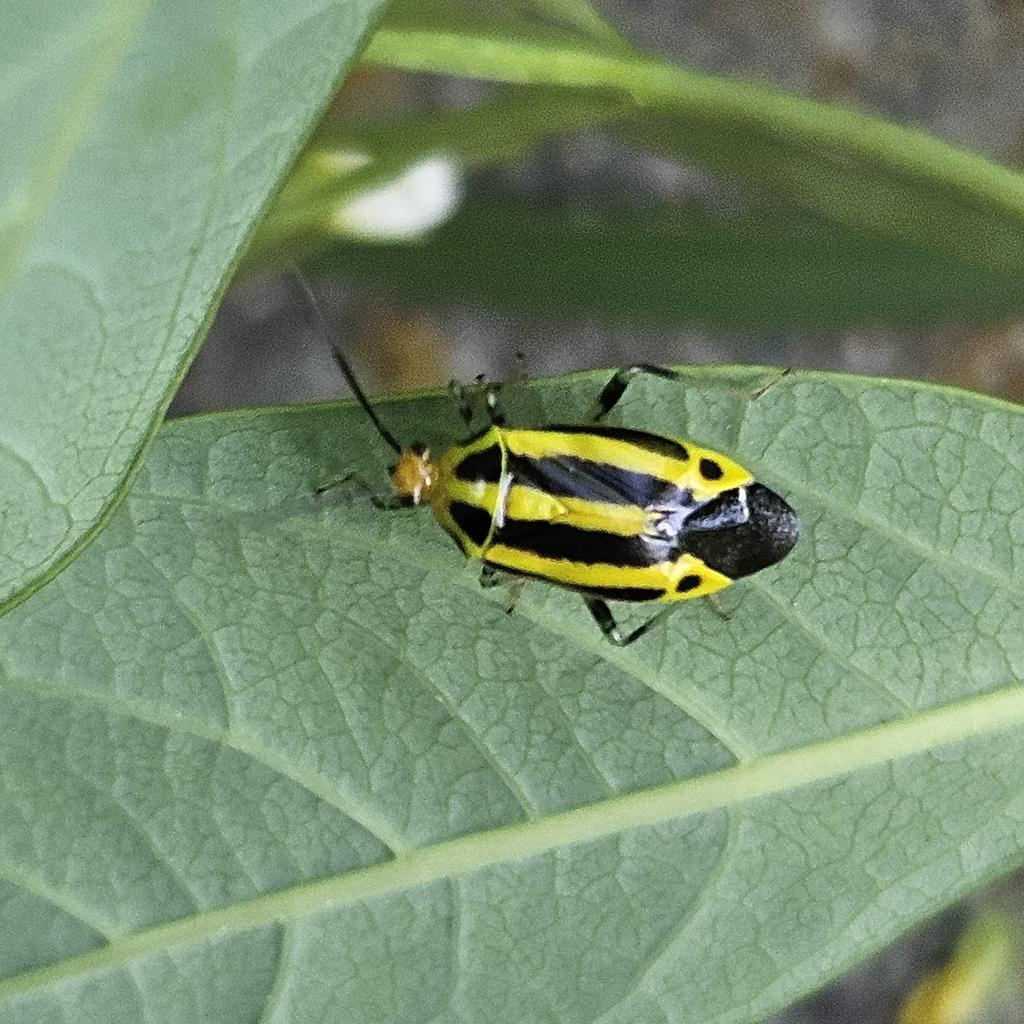plant_bugs: (180, 194, 957, 743)
